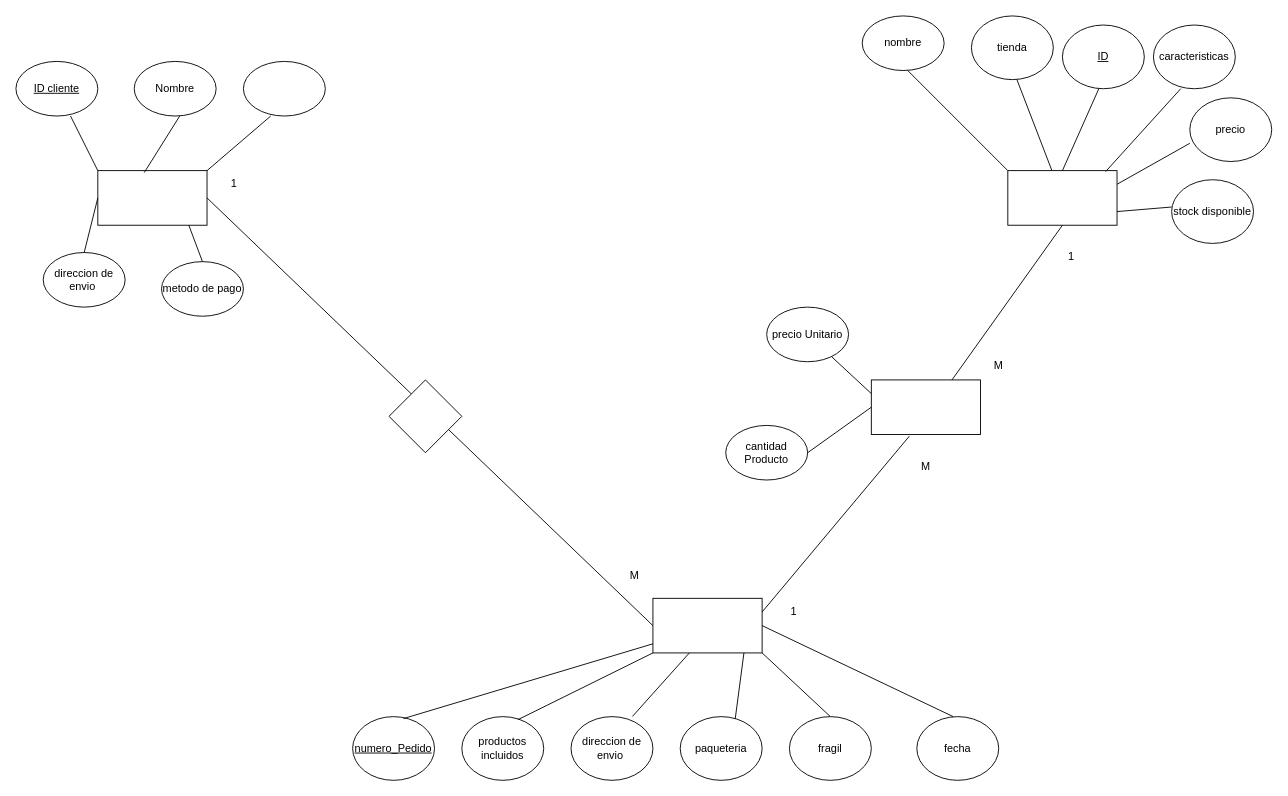
Some shapes in this 1288 by 796 pixel diagram are drawn without their labels. Here are the shapes that lost their labels. From the top down, the centre of each, then its label:
the point at 284,88: correo
the point at 152,197: cliente
the point at 1062,197: Producto
the point at 425,416: realiza
the point at 925,407: Detalle pedido
the point at 707,625: pedido
